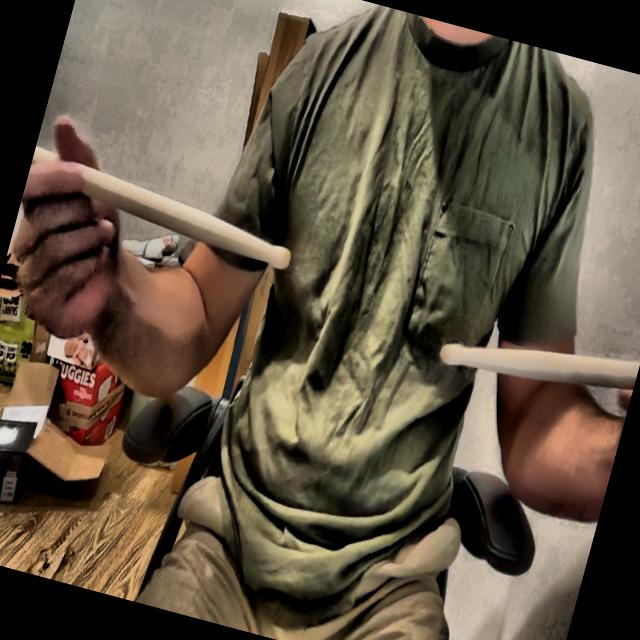Drumstick-Heads: (432, 334, 473, 376), (264, 240, 296, 284)
